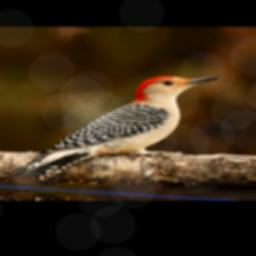Woodpecker: (0, 65, 219, 194)
